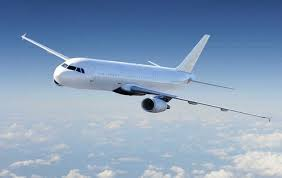maybay_dansu: (22, 31, 272, 127)
